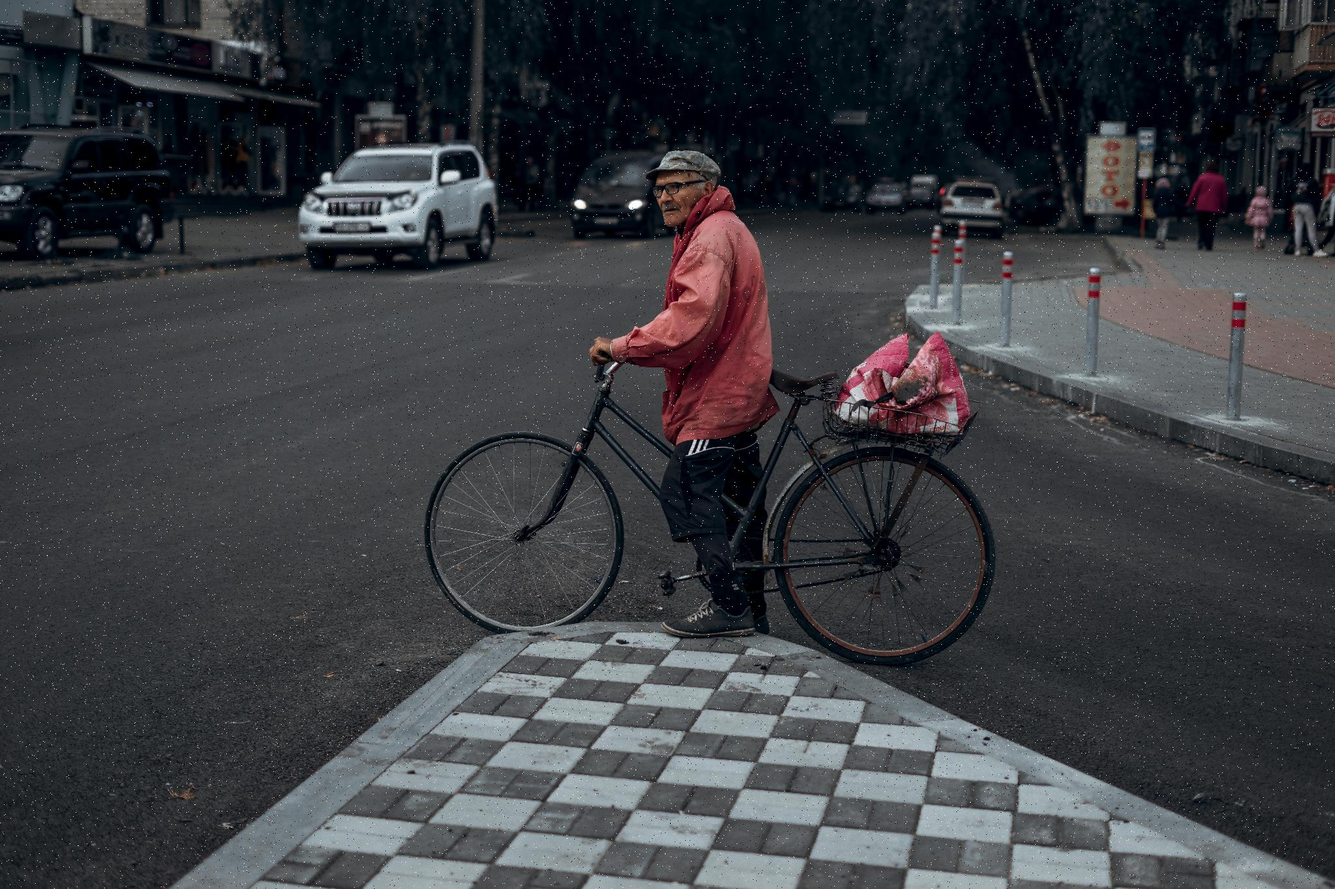car: (300, 146, 502, 267), (0, 129, 181, 256), (572, 155, 652, 233), (938, 177, 1014, 238)
pedestrian: (640, 160, 768, 646), (1188, 156, 1226, 257), (1247, 186, 1272, 249), (1153, 174, 1174, 249)
